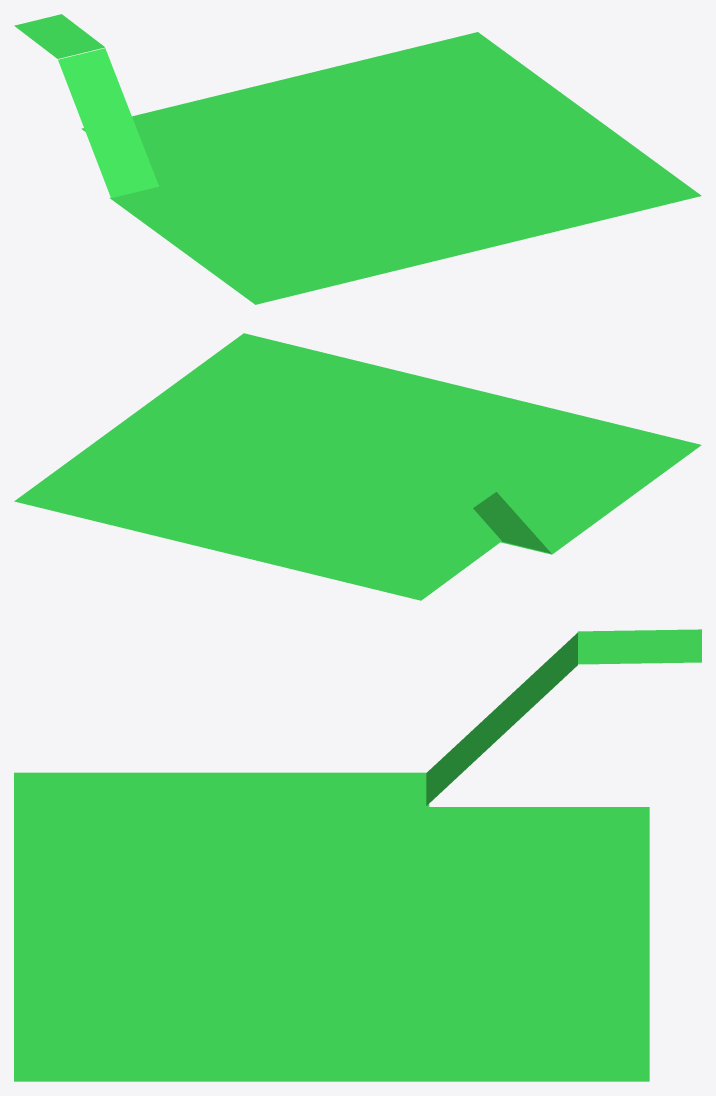
The model's file is Navmesh03.glb.
3 renders of one model, top to bottom at view 1: azimuth 30°, elevation 25°; view 2: azimuth 150°, elevation 25°; view 3: azimuth 270°, elevation 25°, orthographic. The views are drawn at different scales.
Visible parts, largest first — view 1: Plane; view 2: Plane; view 3: Plane.
Part boxes in pixels (x1,y1,x2,y2): Plane: (14, 14, 701, 304); Plane: (14, 333, 701, 600); Plane: (14, 629, 701, 1081).
Bounding box in the file's own units: 13.81 × 3.02 × 12.99.
